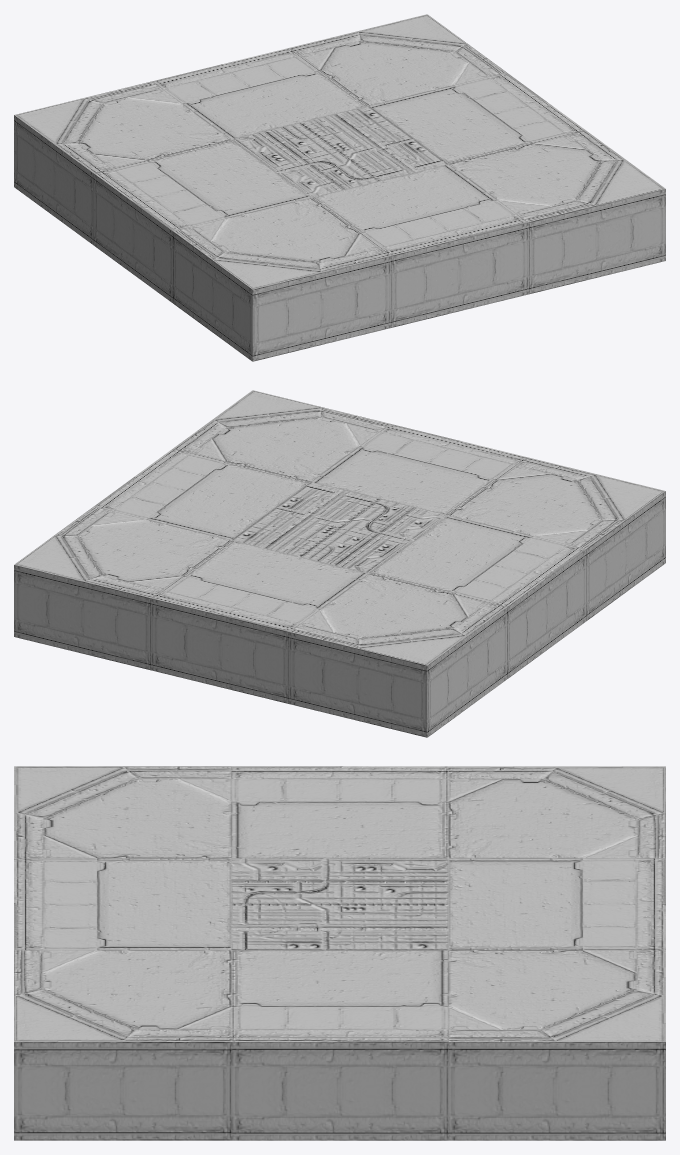
The model's file is Plataforma.fbx.
3 renders of one model, top to bottom at view 1: azimuth 30°, elevation 25°; view 2: azimuth 150°, elevation 25°; view 3: azimuth 270°, elevation 25°, orthographic. The views are drawn at different scales.
Visible parts, largest first — view 1: Cube.020; view 2: Cube.020; view 3: Cube.020.
Boxes of the visible parts, bbox=[...] form: Cube.020: bbox=[14, 14, 665, 361]; Cube.020: bbox=[14, 390, 665, 737]; Cube.020: bbox=[14, 766, 665, 1140].
Bounding box in the file's own units: 6 × 1 × 6.
